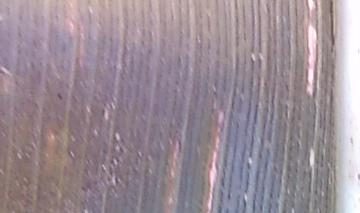tarspot: (55, 91, 65, 101)
